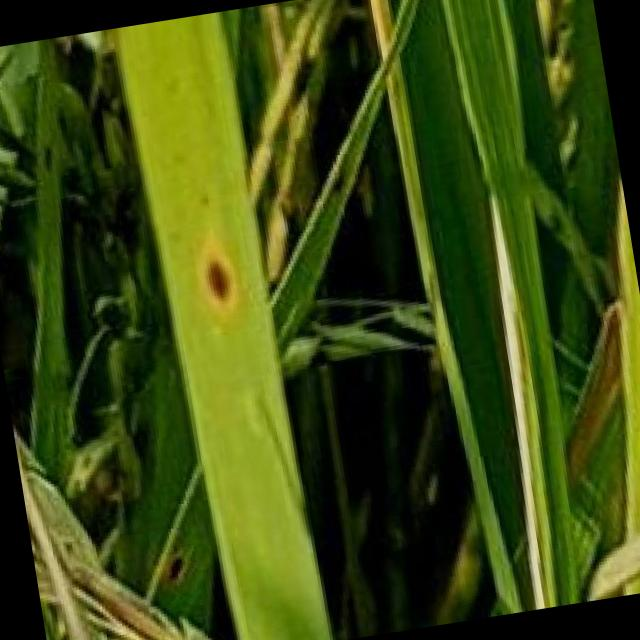Rice_Brownspot: (181, 220, 250, 322)
